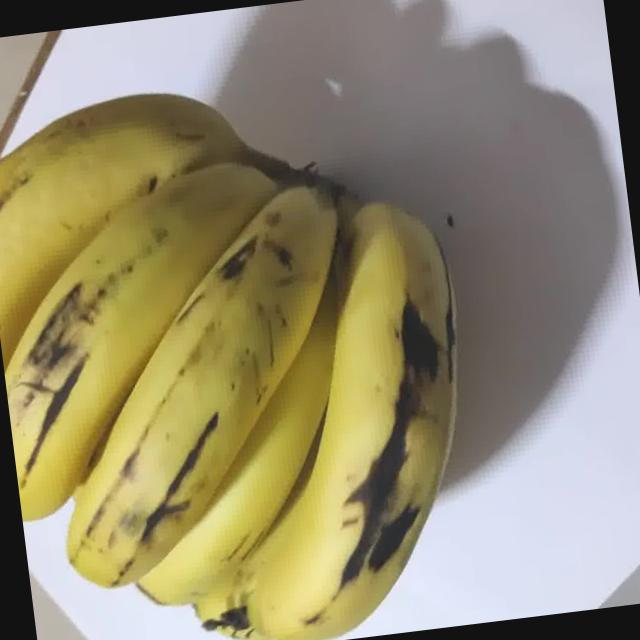apple: (0, 10, 584, 640)
